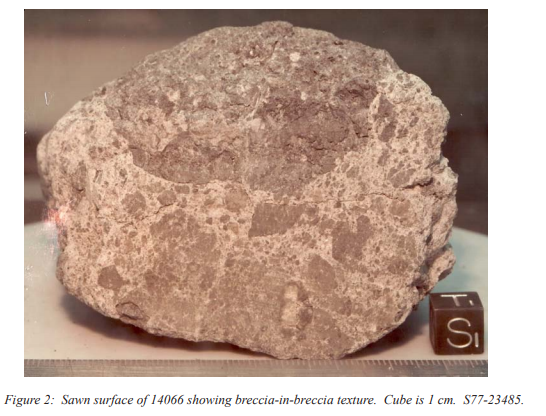Breccia: (37, 51, 451, 339), (116, 29, 413, 307), (187, 54, 419, 355)
